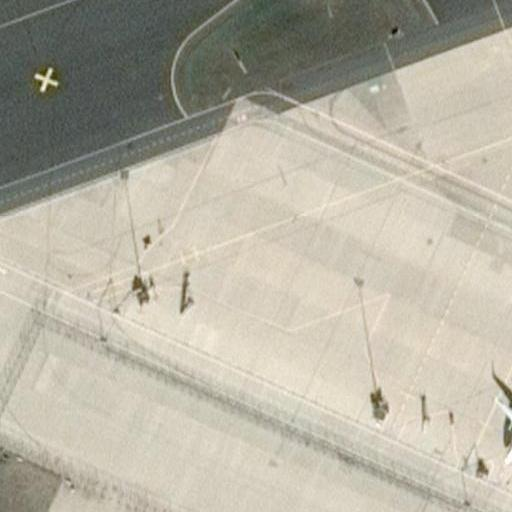Aircraft: (490, 367, 512, 462), (493, 367, 512, 466)
